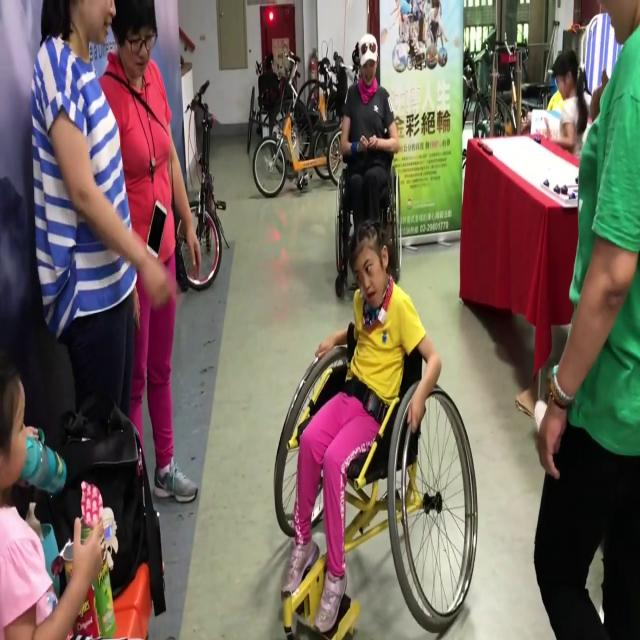wheelchairs: (254, 311, 499, 640)
